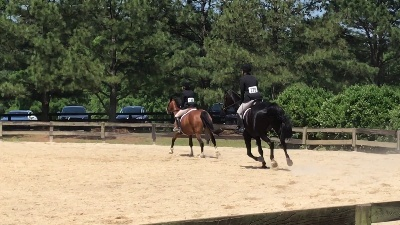jetta: (218, 85, 299, 171)
